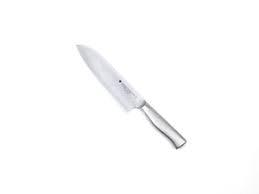Knife: (75, 42, 187, 149)
